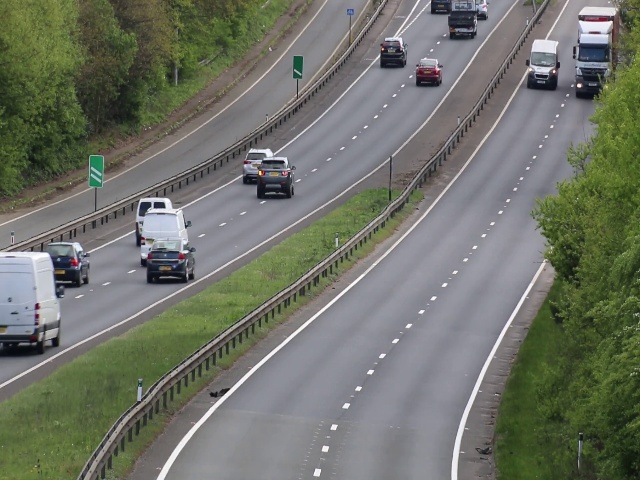car: (1, 252, 57, 352), (576, 7, 616, 96), (141, 209, 190, 263), (43, 241, 92, 283), (147, 246, 193, 284), (527, 38, 559, 92), (257, 160, 294, 196), (449, 1, 478, 37), (243, 147, 273, 181), (381, 35, 406, 70), (415, 58, 441, 85)
